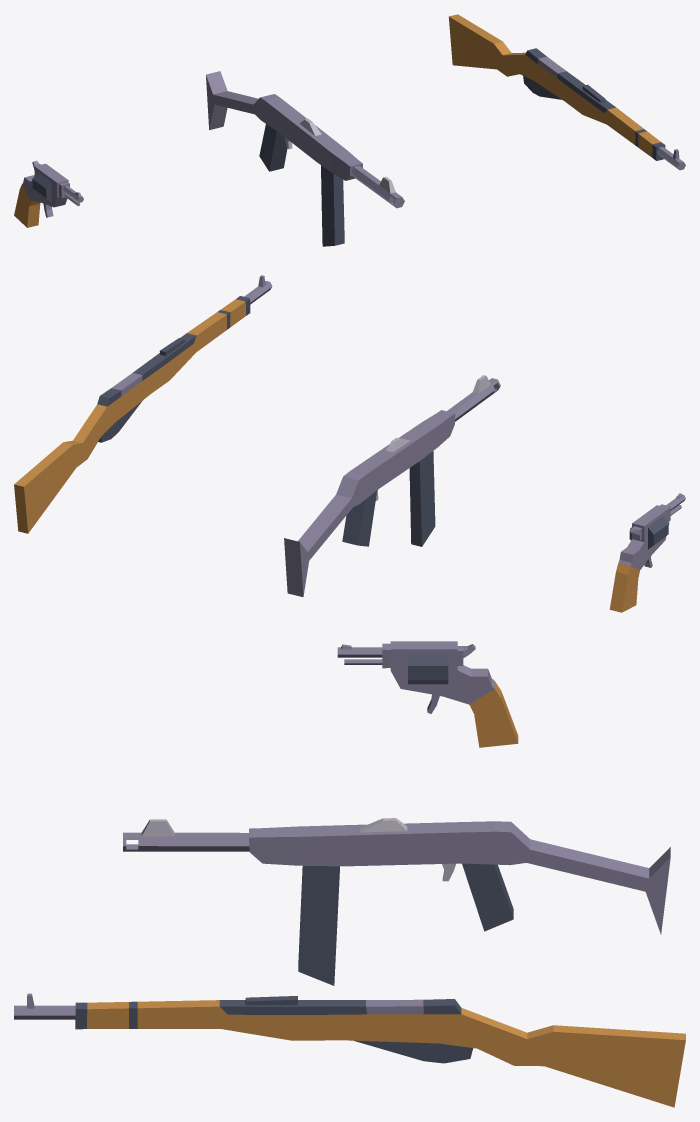
Rendered from WeaponsLD44.fbx.
The picture shows the model from 3 angles, top to bottom: view 1: azimuth 30°, elevation 25°; view 2: azimuth 150°, elevation 25°; view 3: azimuth 270°, elevation 25°; orthographic projection. The views are drawn at different scales.
Parts seen in each view (by area): view 1: LD44SMG, LD44RIFLE, LD44PISTOL; view 2: LD44SMG, LD44RIFLE, LD44PISTOL; view 3: LD44RIFLE, LD44SMG, LD44PISTOL.
Boxes of the visible parts, left/top/right/bottom form: LD44SMG: left=206, top=71, right=404, bottom=246; LD44RIFLE: left=448, top=14, right=685, bottom=170; LD44PISTOL: left=14, top=160, right=83, bottom=227; LD44SMG: left=284, top=375, right=500, bottom=596; LD44RIFLE: left=14, top=275, right=272, bottom=533; LD44PISTOL: left=609, top=493, right=685, bottom=612; LD44RIFLE: left=14, top=993, right=685, bottom=1107; LD44SMG: left=123, top=818, right=670, bottom=985; LD44PISTOL: left=337, top=641, right=518, bottom=747.
Size of the model in its own units: 206 by 43.44 by 161.
1 material, 1 textured.
